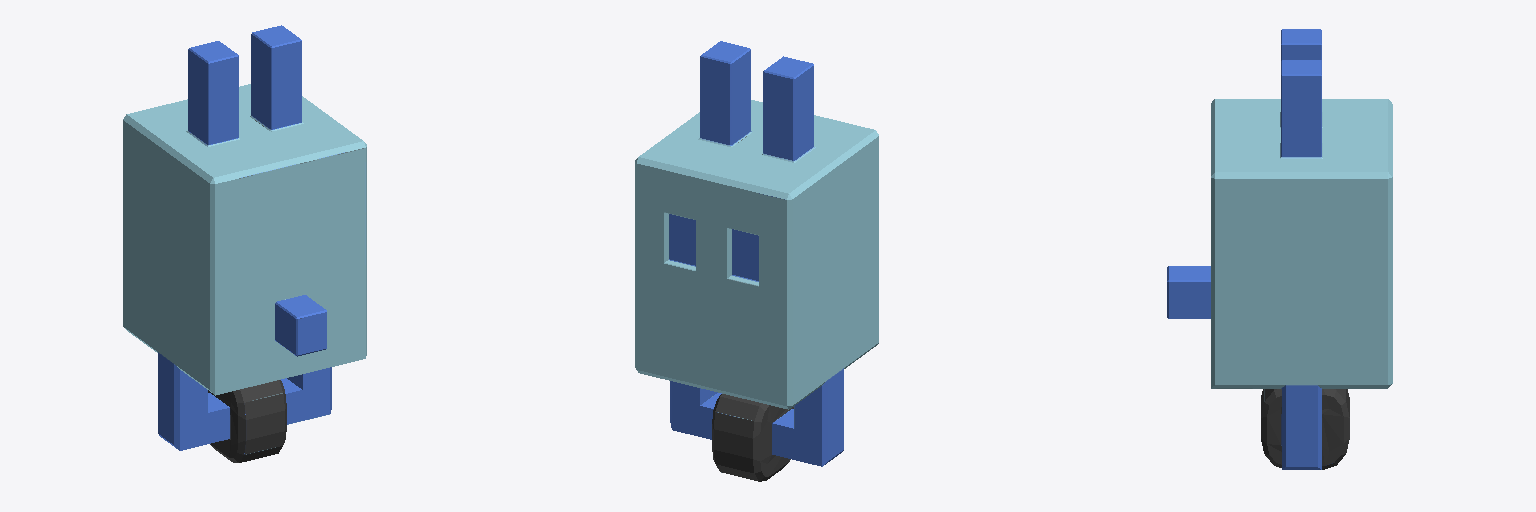
The picture shows the model from 3 angles: view 1: azimuth 30°, elevation 25°; view 2: azimuth 150°, elevation 25°; view 3: azimuth 270°, elevation 25°; orthographic projection.
Parts seen in each view (by area): view 1: RollyBunnyBaked; view 2: RollyBunnyBaked; view 3: RollyBunnyBaked.
Part boxes in pixels (bbox=[...]): RollyBunnyBaked: bbox=[123, 25, 366, 462]; RollyBunnyBaked: bbox=[635, 41, 878, 481]; RollyBunnyBaked: bbox=[1167, 29, 1392, 469].
Bounding box in the file's own units: 2.93 × 7.27 × 3.63.
1 materials, 1 textured.